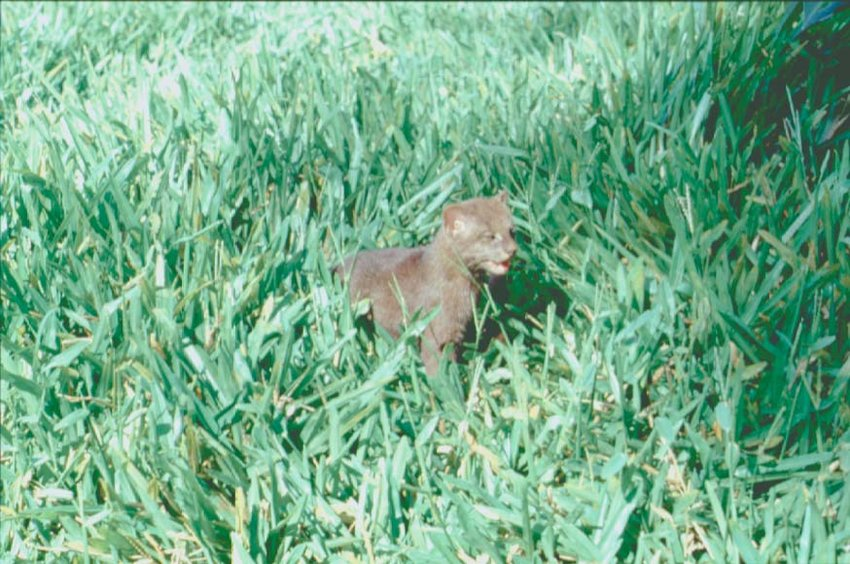Jaguarundi: (329, 191, 537, 378)
